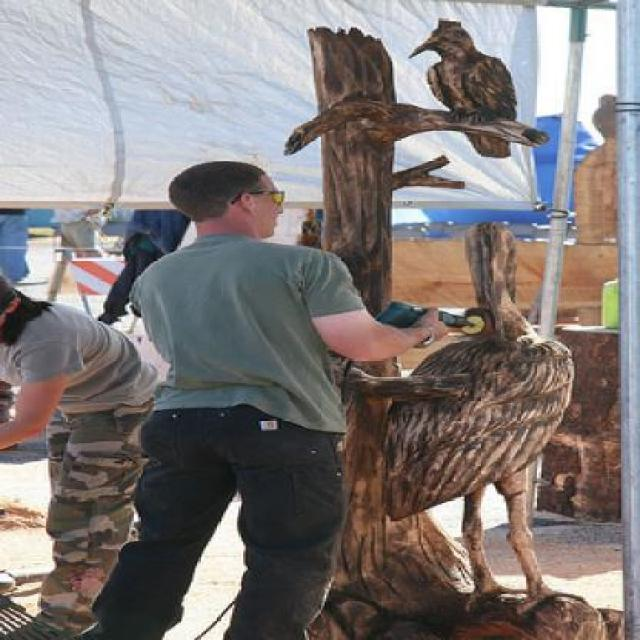Chainsaw: (376, 300, 492, 340)
